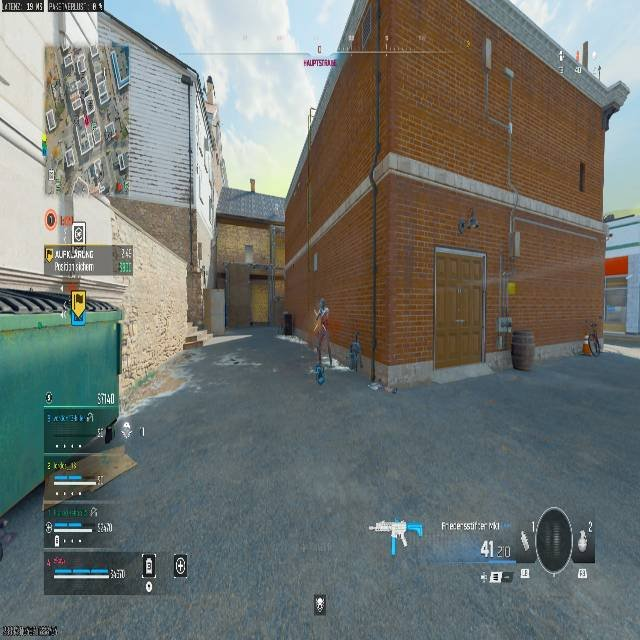head: (318, 297, 326, 308)
player: (312, 297, 331, 373)
